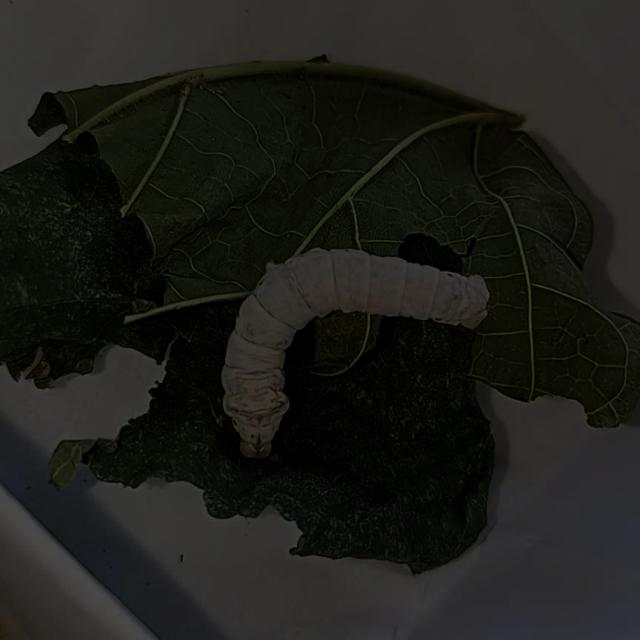Healthy: (209, 188, 519, 484)
